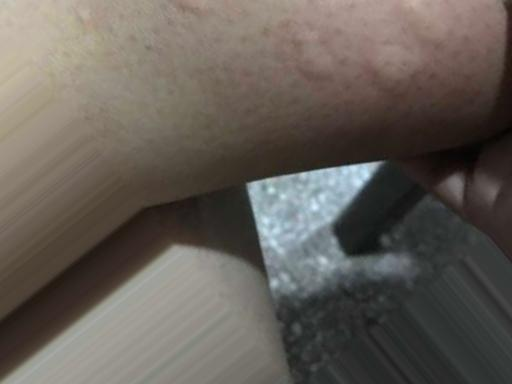Mosquito: (365, 34, 422, 109), (287, 29, 345, 90), (401, 0, 456, 46)
